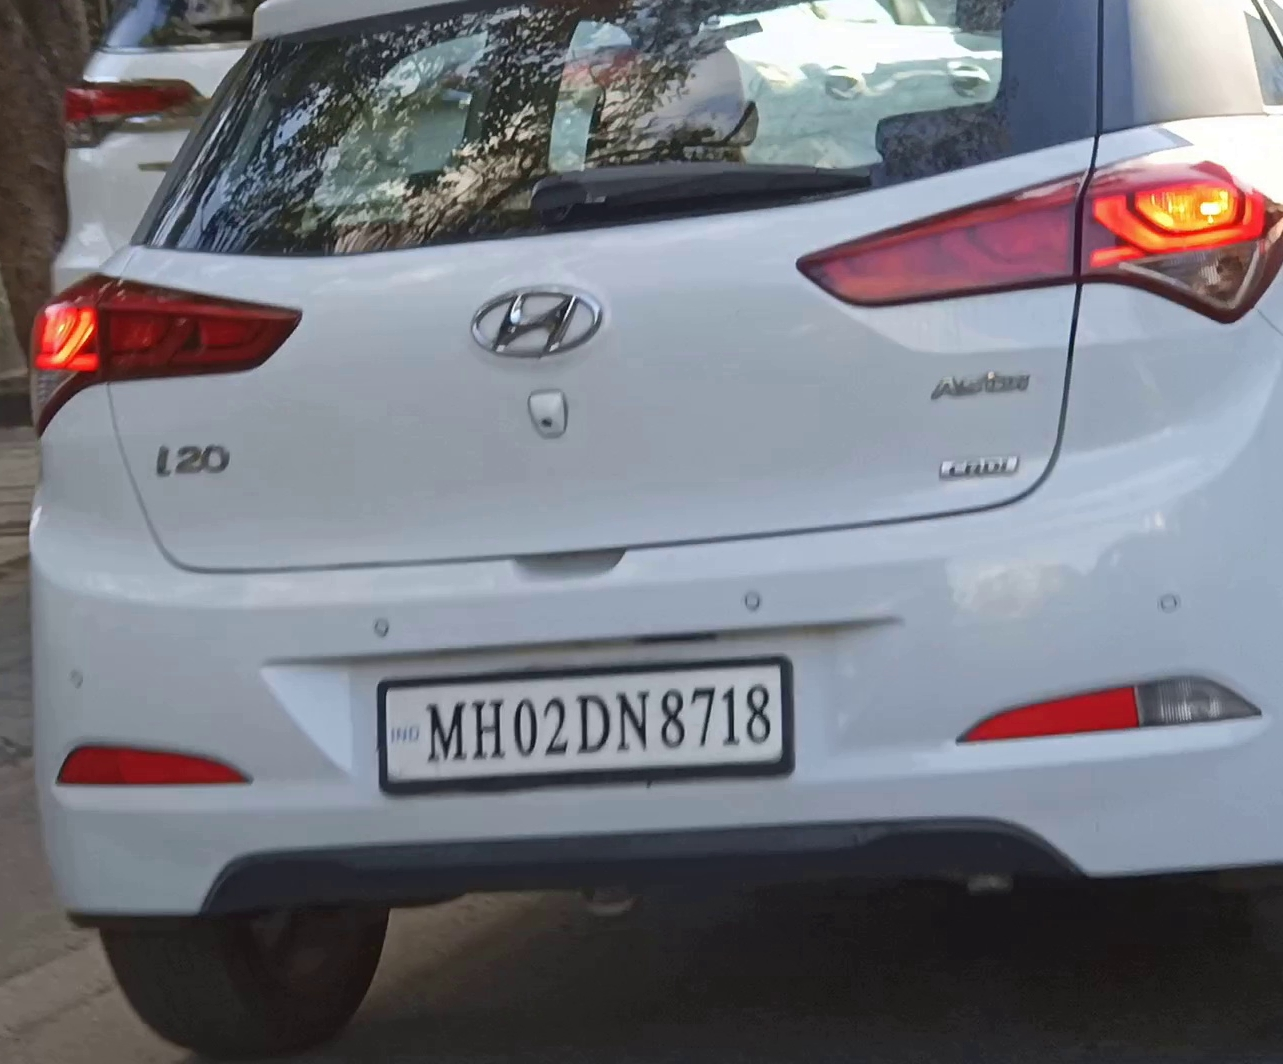MH02DN8718: (381, 661, 782, 783)
